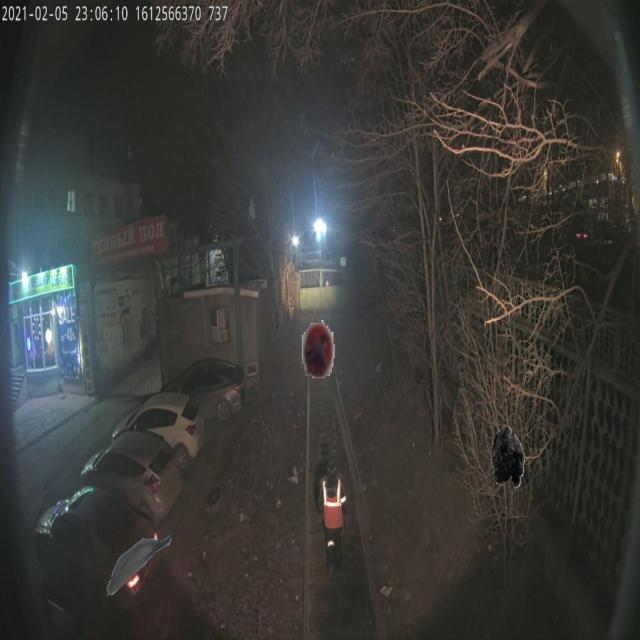balloon: (302, 314, 335, 378)
floating object: (105, 532, 172, 596)
plastic bag: (491, 424, 525, 488)
